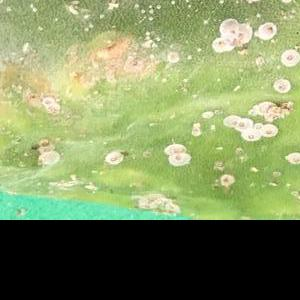Femea: (104, 151, 120, 163), (282, 52, 298, 64), (237, 118, 250, 131), (260, 126, 277, 135), (241, 131, 258, 140), (225, 116, 237, 128)
